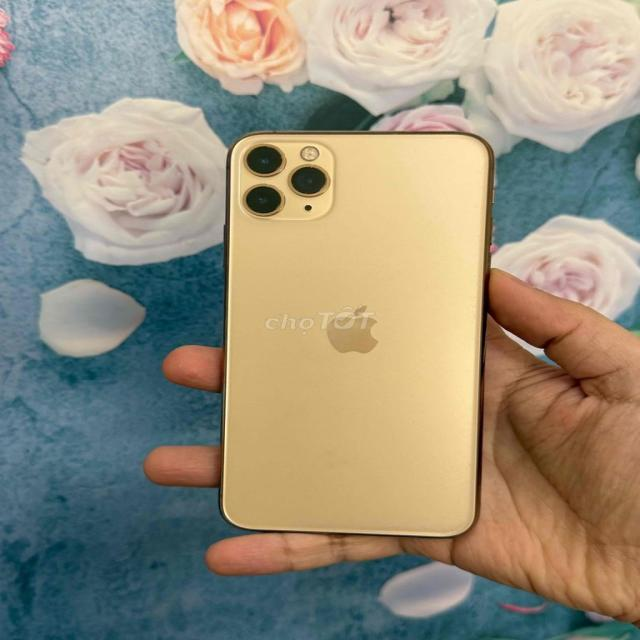gen_11: (220, 131, 493, 537)
